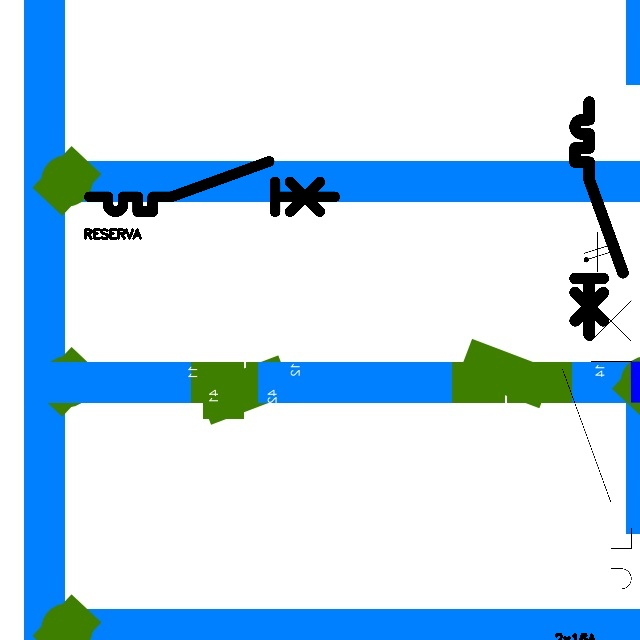interruptor_termomagnetico: (554, 271, 640, 623), (83, 155, 341, 218), (569, 96, 629, 340)
